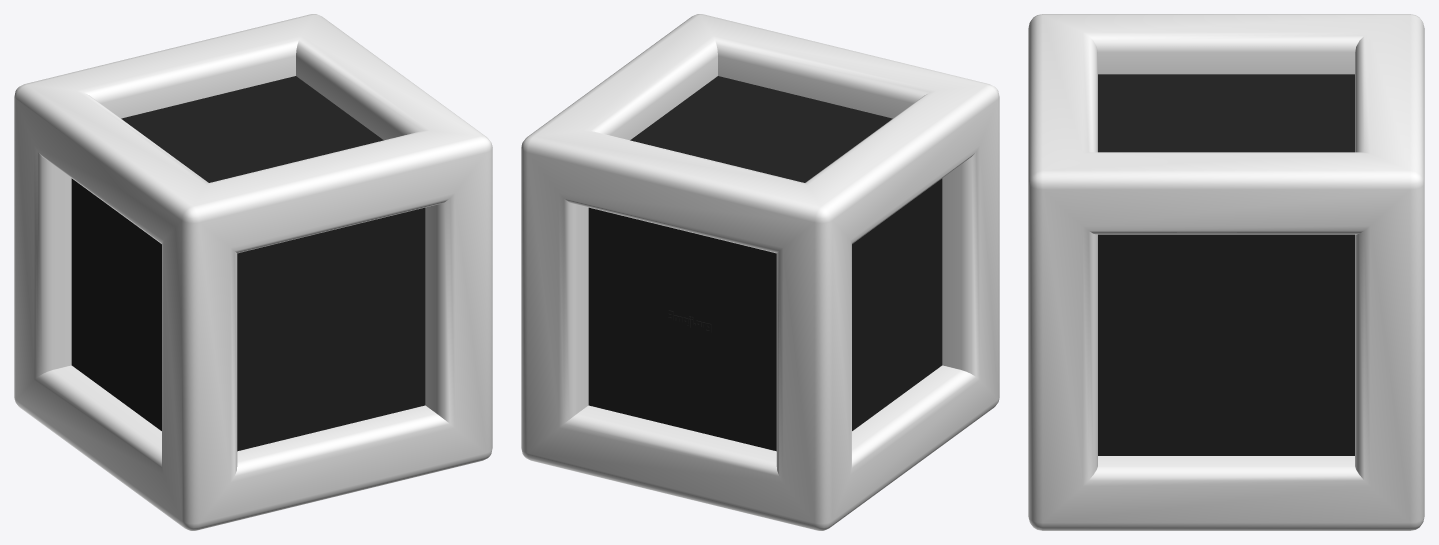
File: white_square_button.gltf
The picture shows the model from 3 angles, left to right: view 1: azimuth 30°, elevation 25°; view 2: azimuth 150°, elevation 25°; view 3: azimuth 270°, elevation 25°; orthographic projection. The views are drawn at different scales.
Visible parts, largest first — view 1: brown_square.009; view 2: brown_square.009; view 3: brown_square.009.
Part boxes in pixels (x1=…): brown_square.009: x1=14, y1=14, x2=492, y2=530; brown_square.009: x1=521, y1=14, x2=999, y2=530; brown_square.009: x1=1028, y1=14, x2=1424, y2=530.
Size of the model in its own units: 1.92 by 1.92 by 1.92.
Materials: 1 (1 with a texture image).
